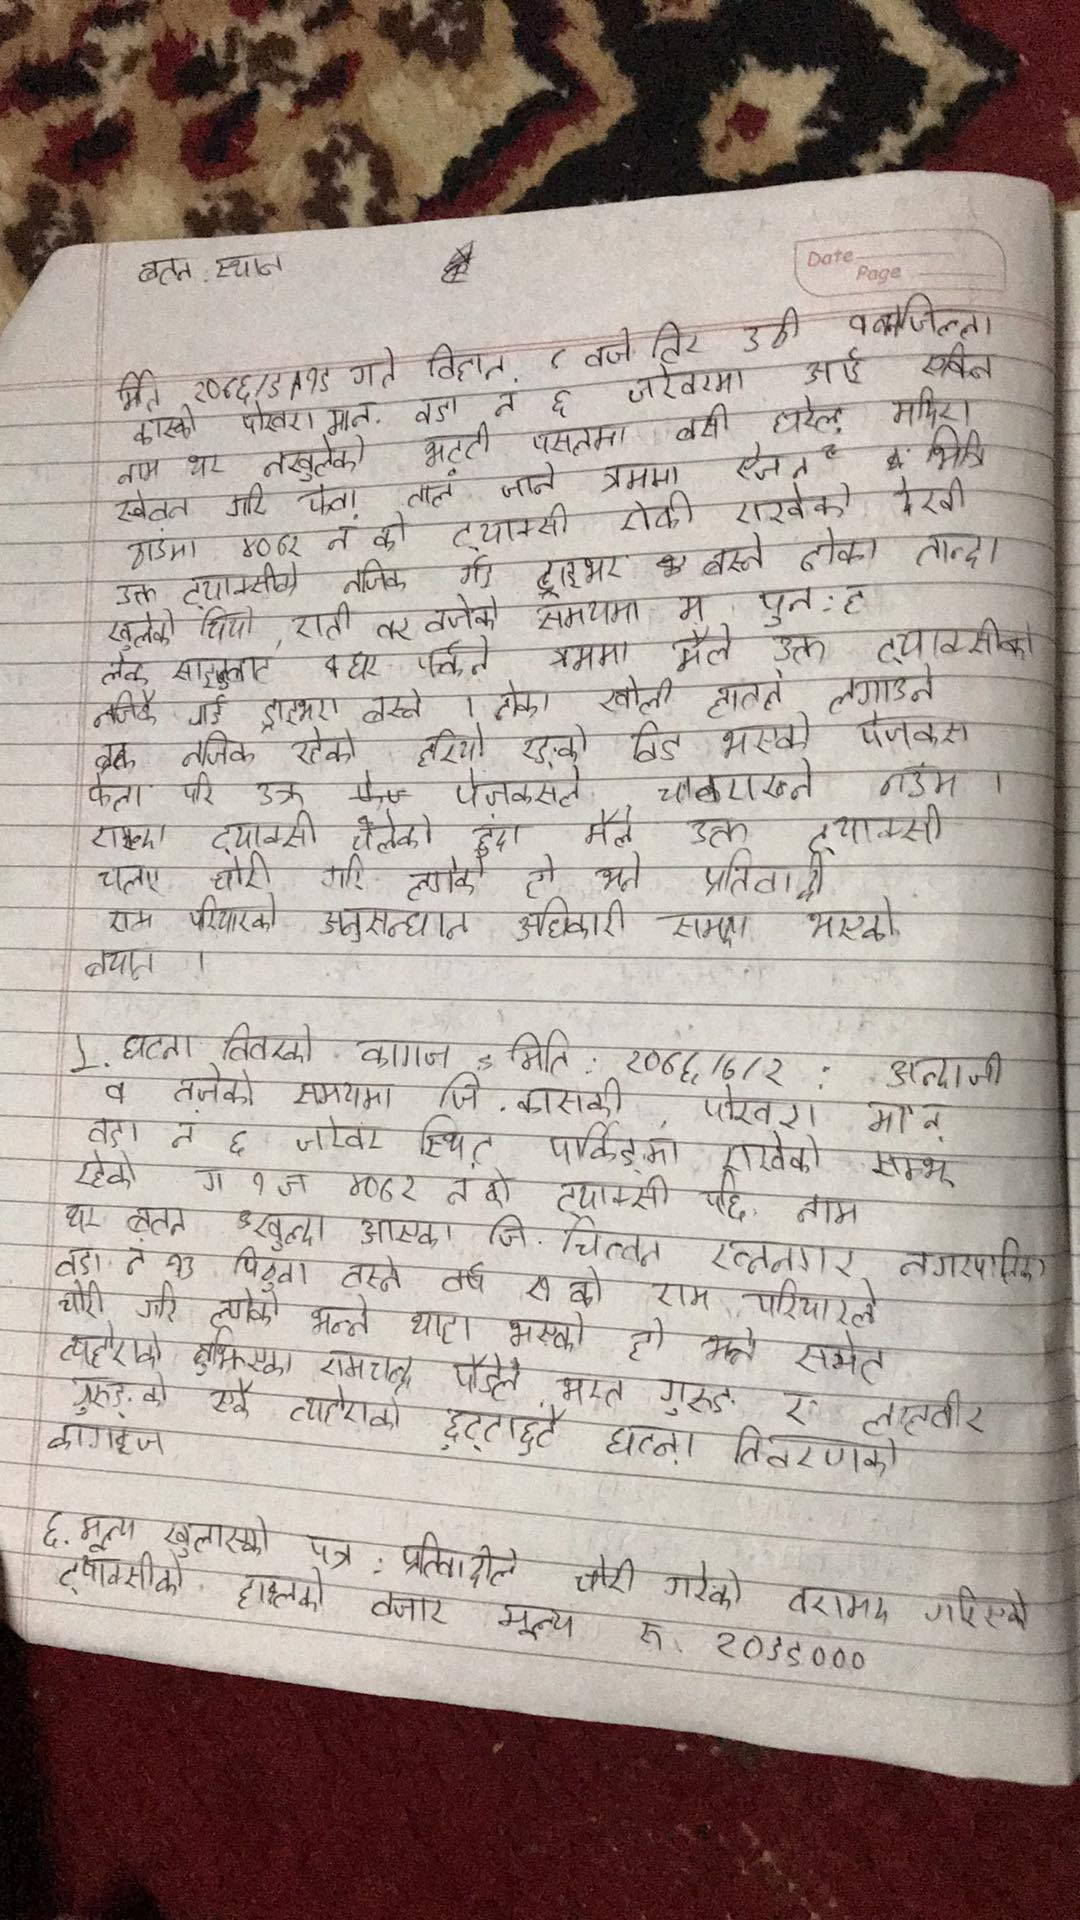text: (735, 1422, 906, 1486), (874, 613, 1039, 669), (895, 1233, 1048, 1291), (705, 1627, 868, 1679), (807, 802, 948, 860), (545, 1116, 684, 1174), (620, 1042, 789, 1087), (653, 764, 819, 808), (749, 1275, 880, 1329), (702, 847, 828, 902), (400, 1531, 526, 1586), (55, 1551, 185, 1605), (315, 902, 471, 947), (438, 1400, 555, 1458), (856, 1389, 992, 1439), (702, 1236, 855, 1279), (189, 357, 336, 402), (454, 762, 585, 812), (174, 559, 305, 608), (893, 286, 1000, 345), (825, 662, 945, 715), (884, 1048, 1007, 1098), (918, 1582, 1040, 1633), (702, 1081, 822, 1131), (509, 895, 628, 945), (448, 506, 576, 553), (791, 1327, 889, 1386), (45, 1420, 169, 1466), (189, 1328, 295, 1381), (66, 1365, 173, 1418), (735, 483, 858, 527), (285, 1386, 400, 1433), (559, 1213, 665, 1265), (260, 433, 368, 483), (58, 1323, 169, 1371), (516, 1073, 626, 1121), (547, 1172, 671, 1215), (233, 1565, 327, 1619), (624, 365, 749, 405), (858, 711, 978, 752), (160, 1515, 268, 1560), (704, 667, 793, 721), (661, 1557, 746, 1613), (787, 1584, 891, 1629), (911, 525, 1006, 574), (531, 549, 624, 599), (806, 895, 898, 945), (716, 712, 812, 760), (206, 812, 320, 852), (717, 1134, 824, 1176), (218, 1021, 315, 1067), (601, 1420, 699, 1466), (868, 1145, 957, 1195), (291, 1112, 384, 1159), (891, 471, 976, 522), (165, 654, 278, 692), (345, 806, 434, 855), (414, 1112, 495, 1164), (531, 595, 644, 632), (525, 418, 632, 456), (796, 525, 880, 574), (447, 1349, 524, 1402), (880, 761, 967, 807), (918, 425, 1002, 472), (615, 488, 699, 535), (187, 893, 285, 934), (506, 1307, 588, 1356), (425, 340, 513, 385), (355, 1213, 458, 1251), (653, 1374, 740, 1419), (538, 636, 640, 674), (291, 1079, 400, 1114), (404, 856, 489, 901), (227, 1247, 311, 1292), (509, 1025, 574, 1083), (766, 396, 849, 440), (411, 636, 495, 680), (865, 1095, 948, 1139), (887, 385, 978, 426), (737, 303, 804, 357), (919, 342, 1000, 386), (520, 719, 593, 767), (102, 609, 179, 655), (669, 909, 756, 949), (173, 1068, 255, 1112), (496, 1602, 578, 1646), (320, 1352, 415, 1389), (175, 728, 261, 769), (287, 723, 365, 767), (353, 1035, 451, 1071), (568, 1553, 640, 1602), (419, 426, 495, 471), (696, 533, 769, 579), (595, 671, 674, 713), (597, 455, 684, 493), (252, 1212, 332, 1253), (368, 1588, 448, 1629), (344, 342, 405, 396), (88, 691, 164, 735), (71, 1146, 144, 1191), (80, 942, 160, 982), (425, 595, 502, 636), (736, 440, 811, 483), (193, 601, 262, 646), (669, 626, 735, 674), (208, 1288, 284, 1329), (309, 1292, 373, 1340), (127, 531, 199, 574), (255, 694, 347, 727), (414, 727, 487, 767), (580, 322, 636, 375), (113, 489, 193, 526), (345, 1167, 419, 1207), (702, 1168, 752, 1226), (582, 806, 642, 853), (628, 719, 686, 767), (207, 251, 293, 284), (92, 858, 164, 898), (802, 344, 866, 388), (491, 680, 555, 724), (287, 601, 353, 644), (235, 400, 315, 434), (208, 851, 276, 891), (340, 1251, 405, 1294), (109, 365, 164, 415), (647, 316, 702, 367), (495, 460, 564, 498), (555, 1371, 626, 1408), (121, 1031, 198, 1065), (675, 400, 732, 446), (76, 1513, 138, 1555), (88, 819, 167, 852), (361, 688, 429, 727), (695, 1328, 762, 1366), (128, 409, 196, 446), (84, 774, 148, 814), (754, 585, 815, 626), (794, 1196, 862, 1232), (301, 480, 364, 518), (342, 559, 409, 595), (322, 400, 378, 442), (468, 814, 521, 858), (131, 255, 194, 291), (769, 632, 831, 669), (175, 769, 225, 814), (202, 1379, 258, 1419), (433, 1069, 484, 1113), (94, 653, 152, 691), (125, 1205, 187, 1241), (520, 853, 564, 902), (688, 814, 752, 848), (235, 531, 306, 562), (407, 392, 465, 429), (402, 473, 456, 513), (80, 1113, 142, 1147), (306, 1531, 357, 1572), (653, 1279, 715, 1312), (318, 855, 369, 893), (55, 1280, 107, 1319), (322, 651, 386, 682), (438, 1259, 491, 1296), (409, 1308, 462, 1345), (567, 1265, 608, 1312), (135, 1286, 182, 1327), (51, 1245, 105, 1280), (626, 1316, 669, 1361), (454, 555, 501, 595), (105, 902, 156, 939), (484, 1211, 527, 1253), (179, 446, 231, 481), (595, 858, 644, 895), (185, 691, 229, 731), (256, 775, 305, 811), (224, 484, 272, 520), (372, 612, 418, 647), (91, 738, 138, 773), (632, 1618, 671, 1659), (113, 576, 162, 609), (58, 1199, 100, 1236), (667, 589, 712, 624), (113, 456, 165, 485), (477, 1168, 516, 1207), (778, 1391, 818, 1428), (837, 579, 874, 616), (372, 518, 409, 554), (191, 1162, 229, 1196), (320, 520, 357, 554), (222, 1120, 251, 1162), (273, 1168, 311, 1200), (161, 1251, 200, 1280), (549, 384, 579, 419), (444, 1171, 475, 1207), (542, 345, 574, 377), (489, 389, 521, 419), (524, 1274, 553, 1307), (125, 1244, 152, 1279), (171, 1116, 198, 1149), (243, 1171, 269, 1195)
